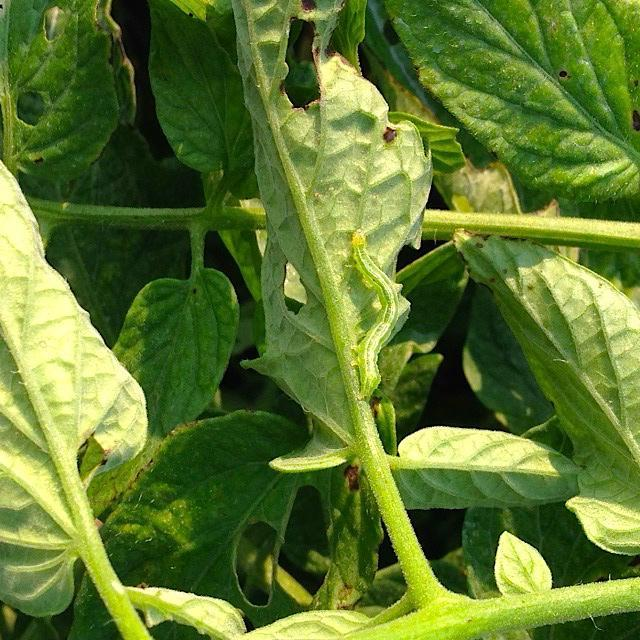armyworm: (343, 230, 408, 395)
